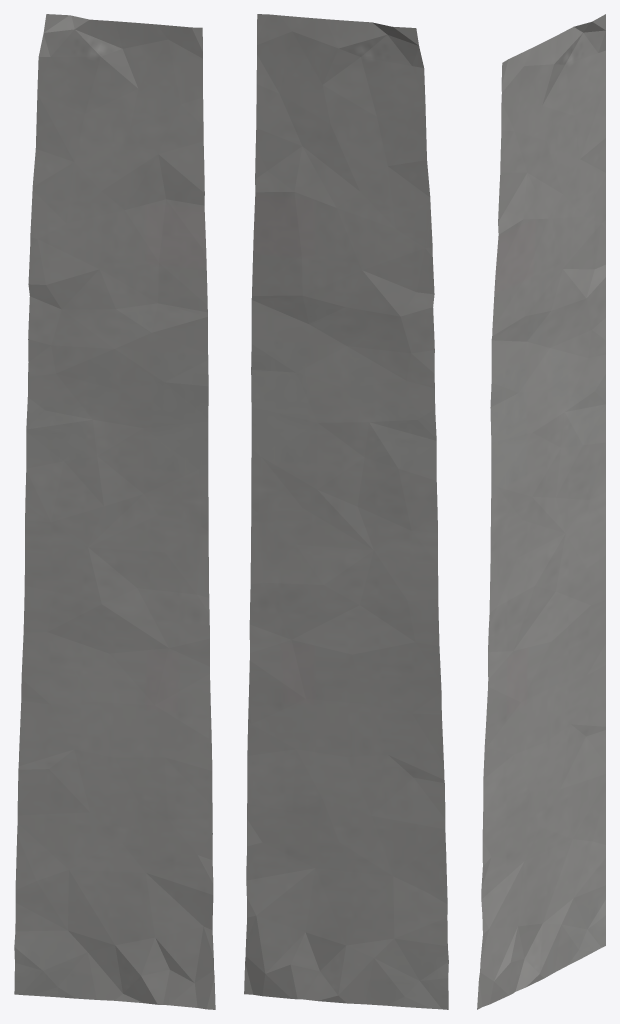
The picture shows the model from 3 angles, left to right: view 1: azimuth 30°, elevation 25°; view 2: azimuth 210°, elevation 25°; view 3: azimuth 270°, elevation 25°; orthographic projection. The views are drawn at different scales.
Bounding box in the file's own units: 0.2434 × 1.67 × 0.2066.
Materials: 1 (1 with a texture image).
